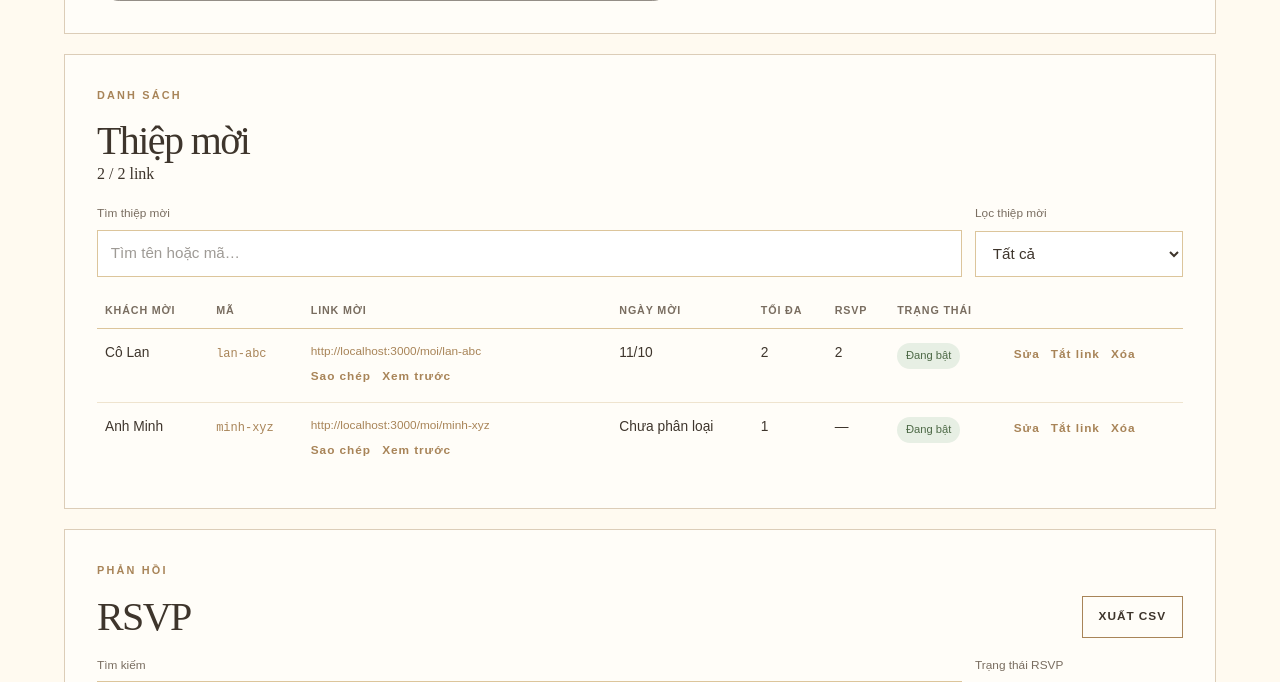
Scenario: AdminDashboard › edits an invitation name, guest limit and event scope
The image size is (1280, 682).
(page scrolled)
Click the button "Sửa" in the row of "http://localhost:3000/moi/lan-abc" at (1027, 355), box [1014, 343, 1040, 367]
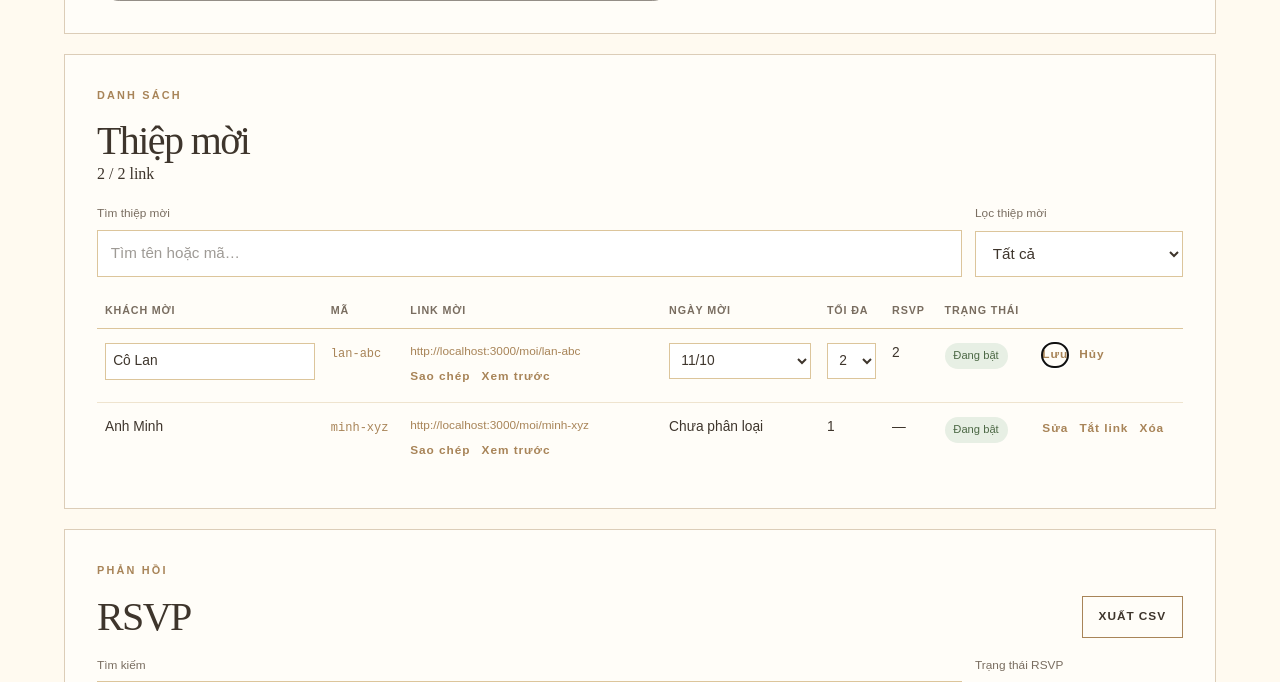
Replace the text in the field named "Tên khách mời lan-abc" with "Cô Lan thân mến" at (210, 361), box [105, 343, 315, 380]
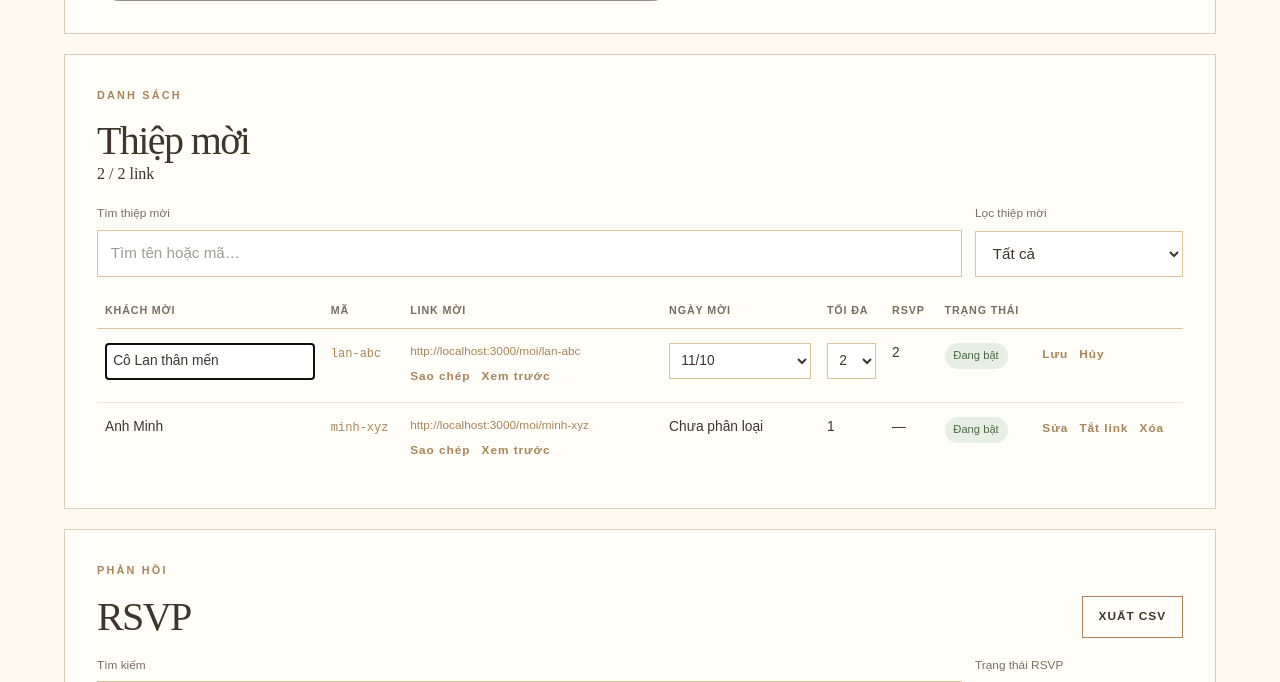
Select "3" in the dropdown named "Số khách tối đa lan-abc" at (852, 361), box [827, 343, 876, 379]
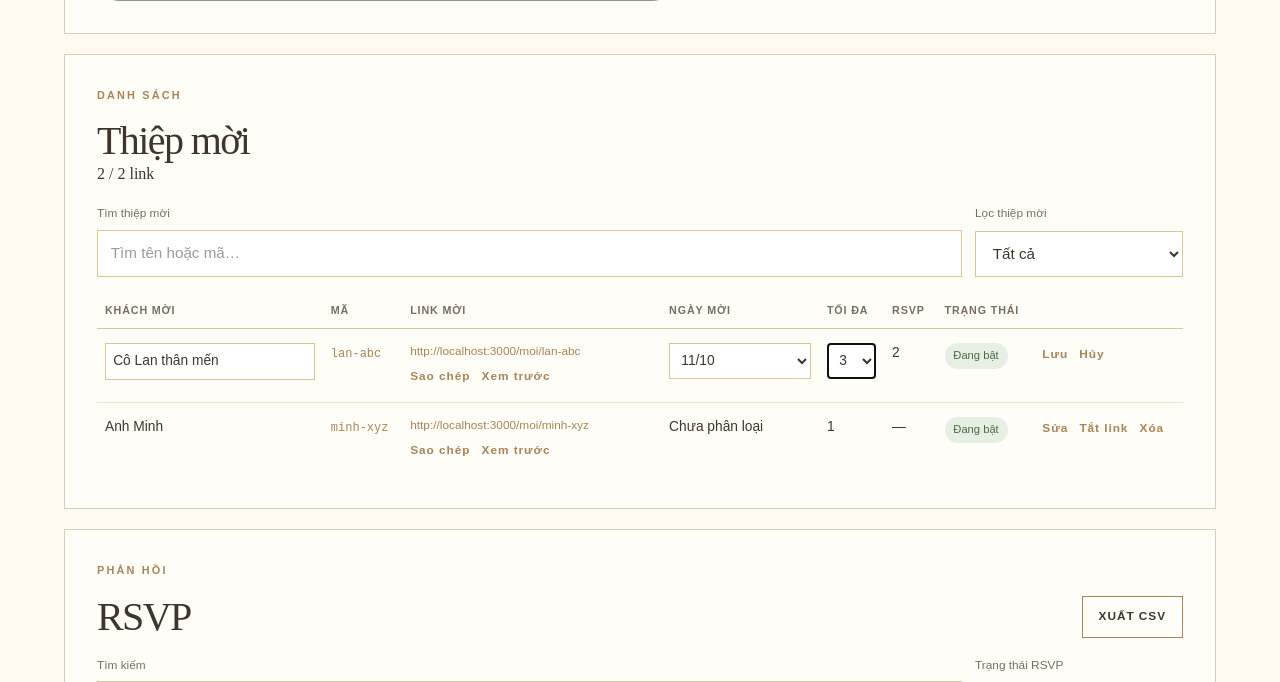
Select "11/10 + 31/10" in the dropdown named "Ngày mời lan-abc" at (740, 361), box [669, 343, 811, 379]
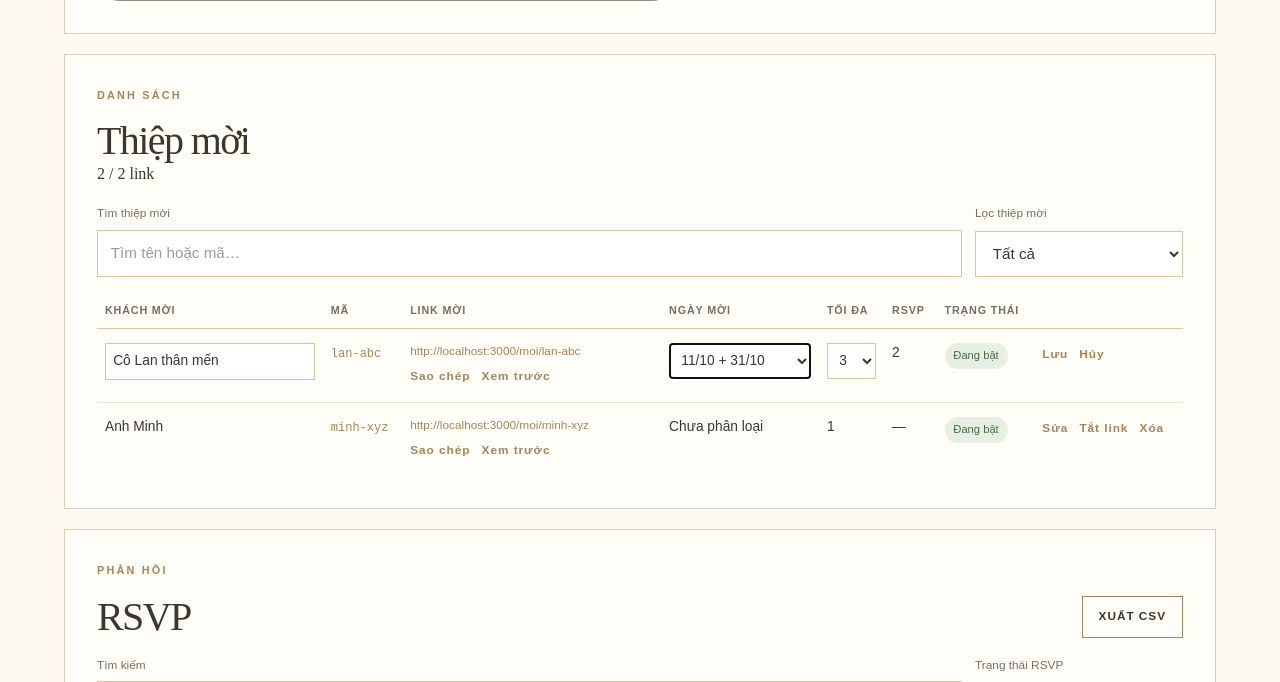
Click the button "Lưu" at (1055, 355), box [1042, 343, 1068, 367]
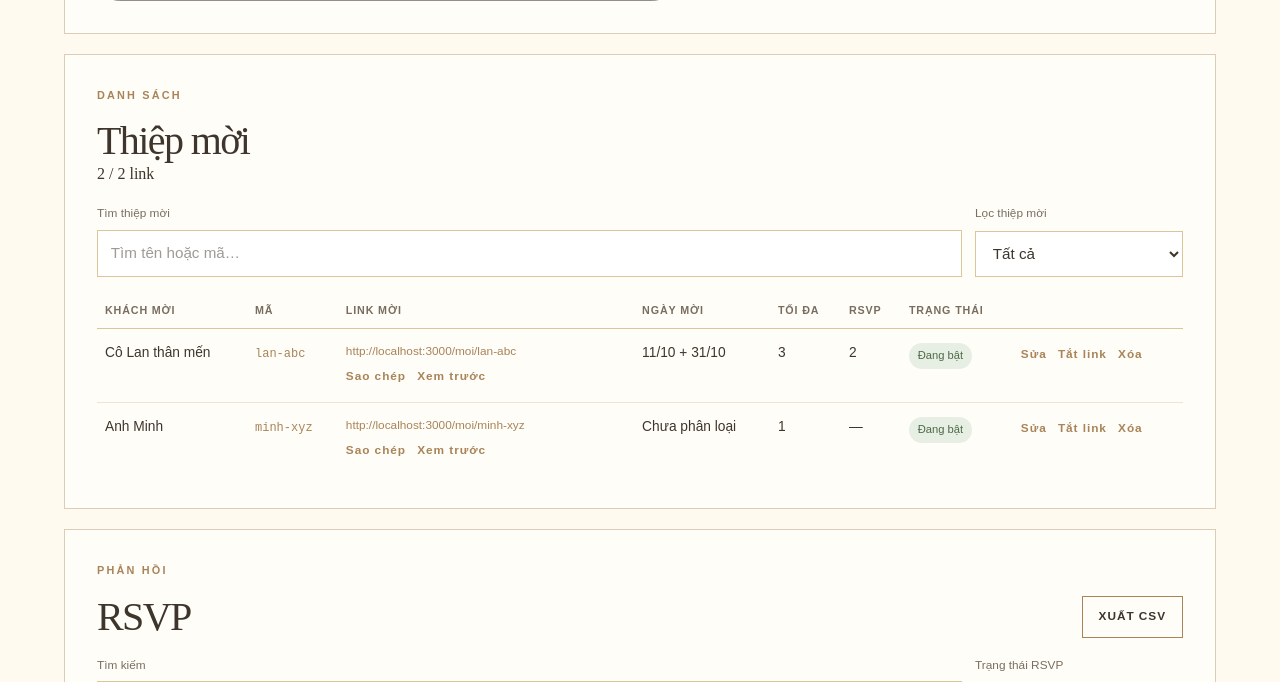
Expected: the text "Cô Lan thân mến" is shown, [97, 328, 247, 403]
Expected: the text "11/10 + 31/10" is shown, [634, 328, 770, 403]
